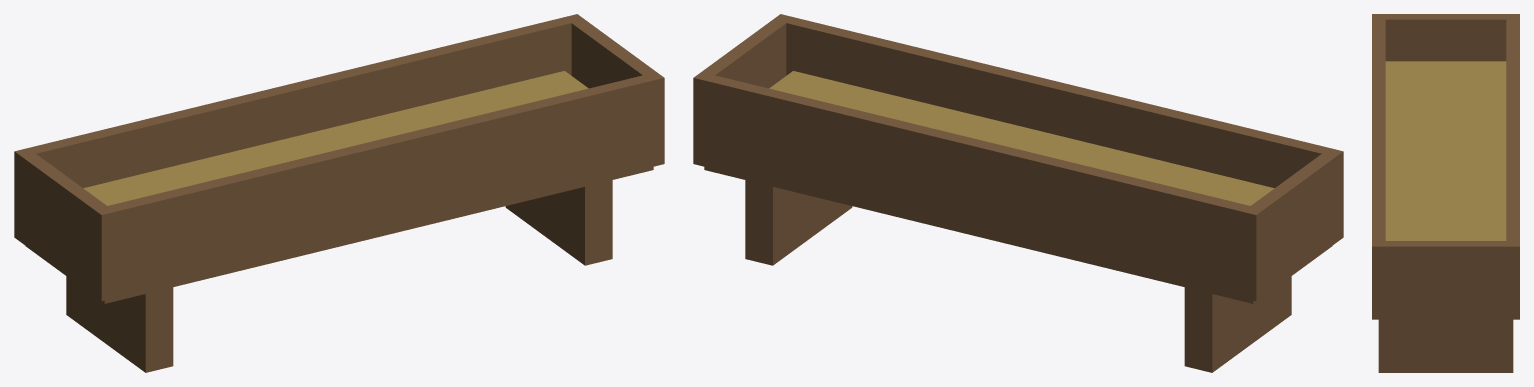
The model's file is feed trough.glb.
3 views of the same model, side by side, from view 1: azimuth 30°, elevation 25°; view 2: azimuth 150°, elevation 25°; view 3: azimuth 270°, elevation 25° (orthographic). The views are drawn at different scales.
Parts seen in each view (by area): view 1: feed trough; view 2: feed trough; view 3: feed trough.
Boxes of the visible parts, x1=… form: feed trough: x1=14, y1=14, x2=664, y2=372; feed trough: x1=693, y1=14, x2=1343, y2=372; feed trough: x1=1372, y1=14, x2=1519, y2=372.
Bounding box in the file's own units: 2.05 × 0.6 × 0.55.
